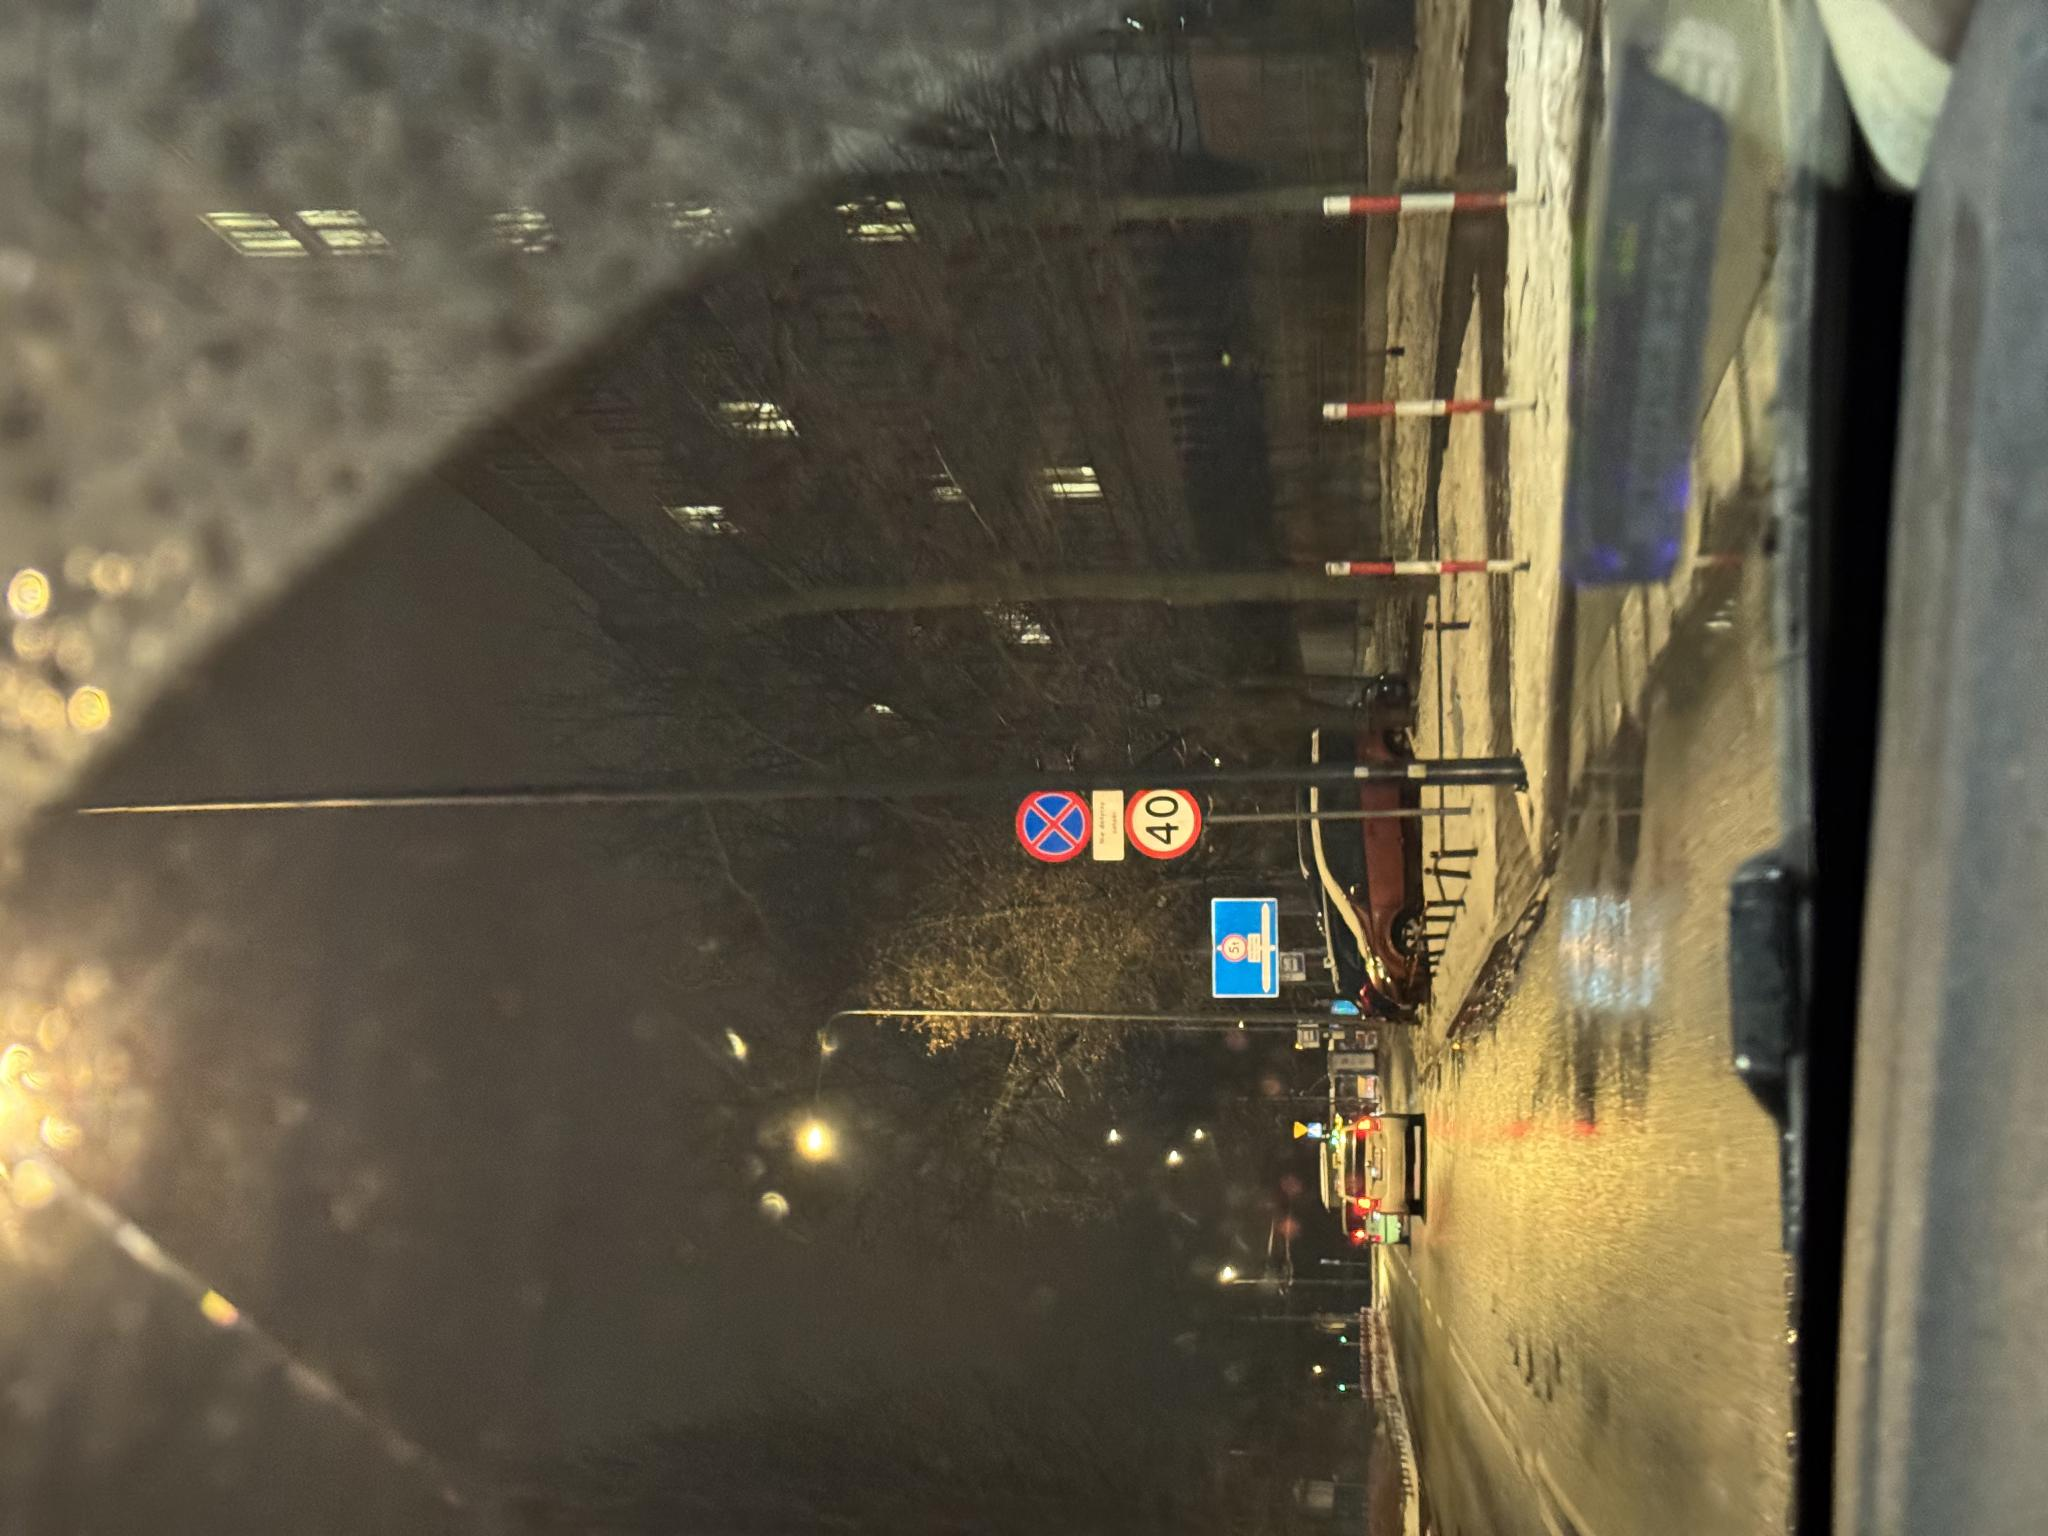information: (563, 1281, 581, 1302), (398, 1307, 413, 1320), (493, 1302, 506, 1317)
other: (539, 1213, 639, 1278), (676, 1092, 745, 1126)
prohibitory: (671, 1013, 745, 1091), (677, 1126, 750, 1202)
warning: (397, 1294, 416, 1309)
